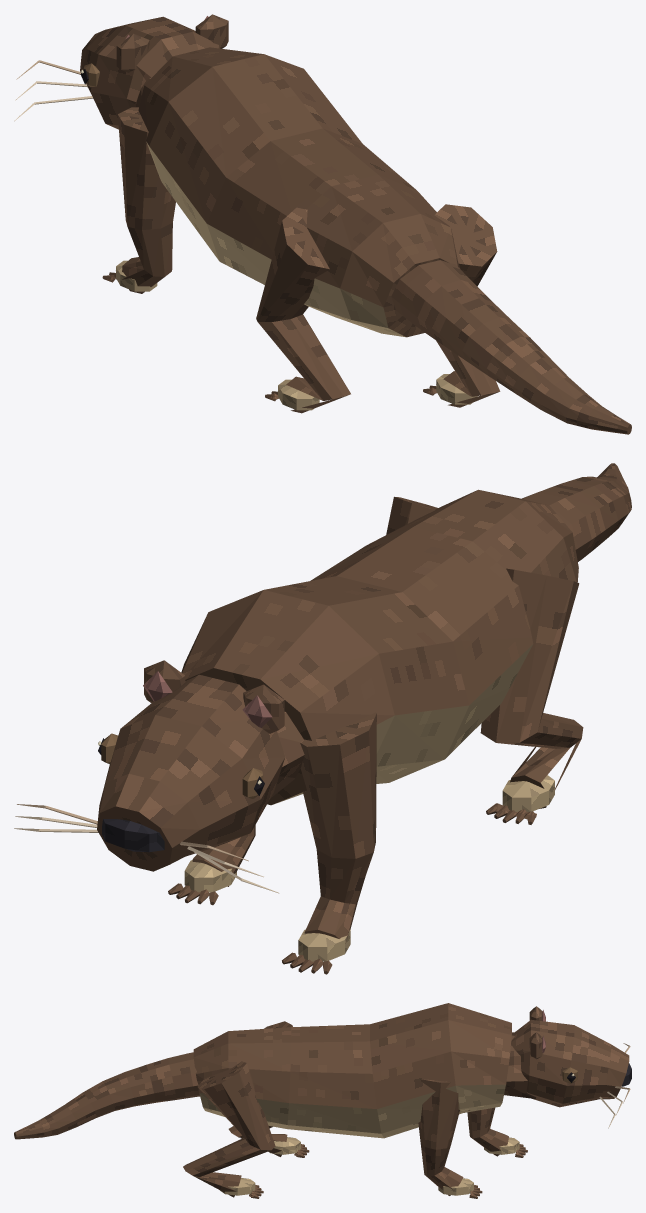
Rendered from mon_otter.glb.
3 views of the same model, one above another, from view 1: azimuth 30°, elevation 25°; view 2: azimuth 150°, elevation 25°; view 3: azimuth 270°, elevation 25° (orthographic). The views are drawn at different scales.
Parts seen in each view (by area): view 1: closed_body; view 2: closed_body; view 3: closed_body.
Part boxes in pixels (x1,y1,x2,y2): closed_body: (14,14,631,434); closed_body: (14,463,631,974); closed_body: (14,1003,631,1198).
Size of the model in its own units: 0.2943 by 0.3278 by 1.11.
Materials: 1 (1 with a texture image).
